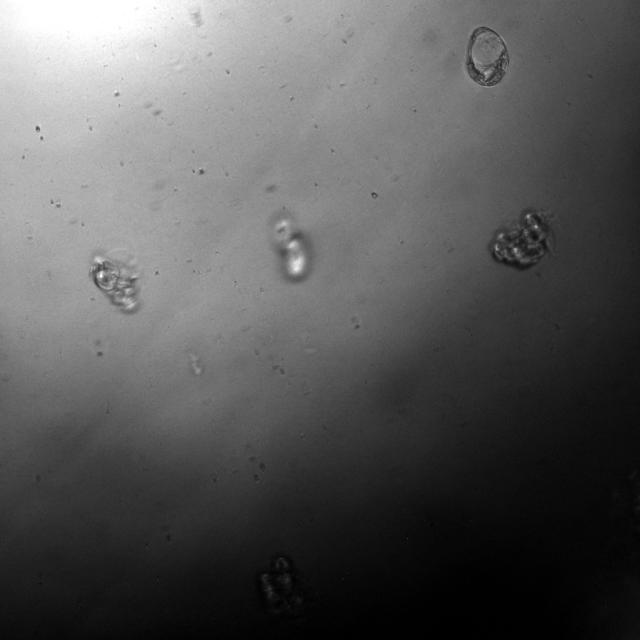organoid: (491, 209, 552, 268), (89, 250, 139, 312), (270, 208, 312, 281), (258, 555, 304, 617), (466, 26, 509, 86)
